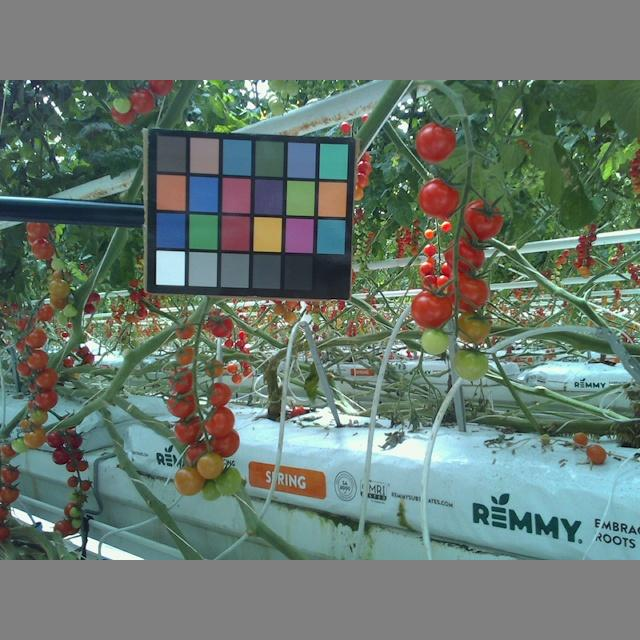green: (454, 310, 492, 347), (449, 347, 488, 381), (421, 326, 452, 356), (213, 468, 241, 495), (202, 482, 221, 502)
pink: (172, 465, 206, 496), (208, 428, 239, 456), (194, 450, 225, 478), (126, 89, 156, 114), (205, 381, 232, 406), (32, 387, 59, 410), (30, 236, 54, 261), (23, 348, 49, 371), (23, 423, 46, 449), (34, 369, 58, 391), (22, 328, 46, 349), (45, 277, 70, 297), (203, 359, 225, 379), (172, 346, 196, 364), (176, 322, 194, 338)
red: (461, 200, 504, 243), (415, 119, 456, 163), (418, 178, 459, 219), (444, 274, 488, 312), (412, 288, 453, 328), (444, 237, 486, 272), (201, 406, 233, 437), (164, 392, 196, 419), (175, 416, 203, 445), (166, 368, 195, 393), (209, 312, 233, 336), (45, 429, 67, 449), (51, 446, 69, 463)
